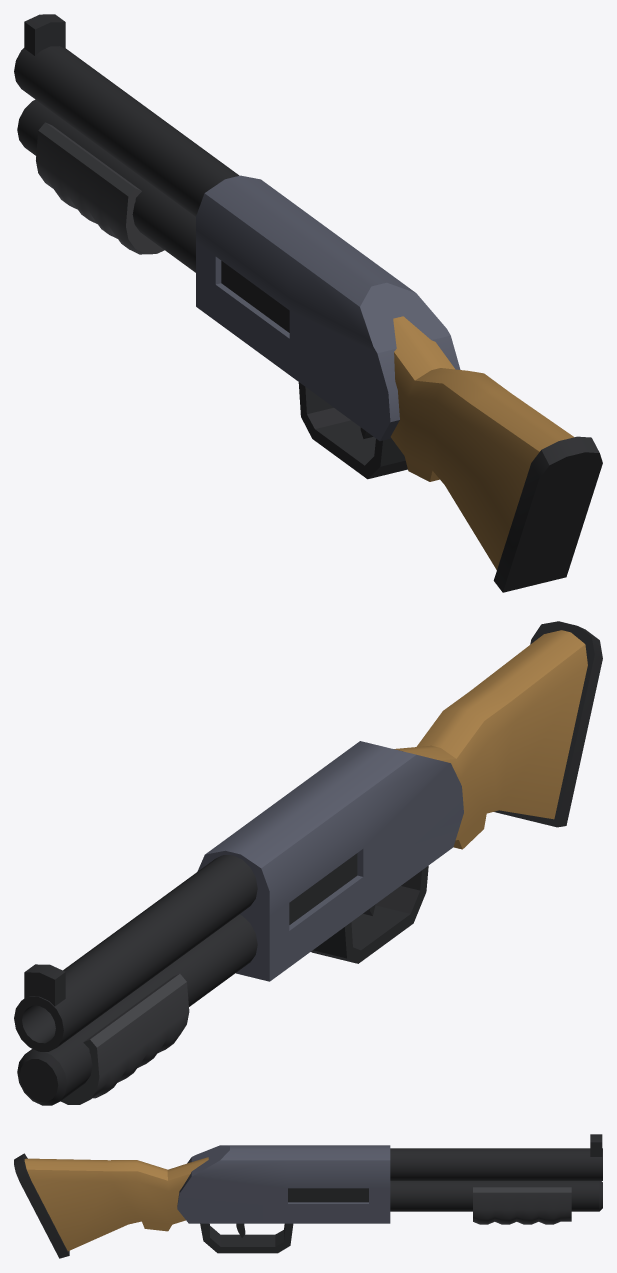
File: model_mk-pump.glb
3 views of the same model, one above another, from view 1: azimuth 30°, elevation 25°; view 2: azimuth 150°, elevation 25°; view 3: azimuth 270°, elevation 25° (orthographic). The views are drawn at different scales.
Visible parts, largest first — view 1: Shotgun; view 2: Shotgun; view 3: Shotgun.
Part boxes in pixels (<box>): Shotgun: <box>14,14,602,592</box>; Shotgun: <box>14,621,602,1105</box>; Shotgun: <box>14,1134,602,1258</box>.
Size of the model in its own units: 0.1224 by 0.3308 by 1.55.
